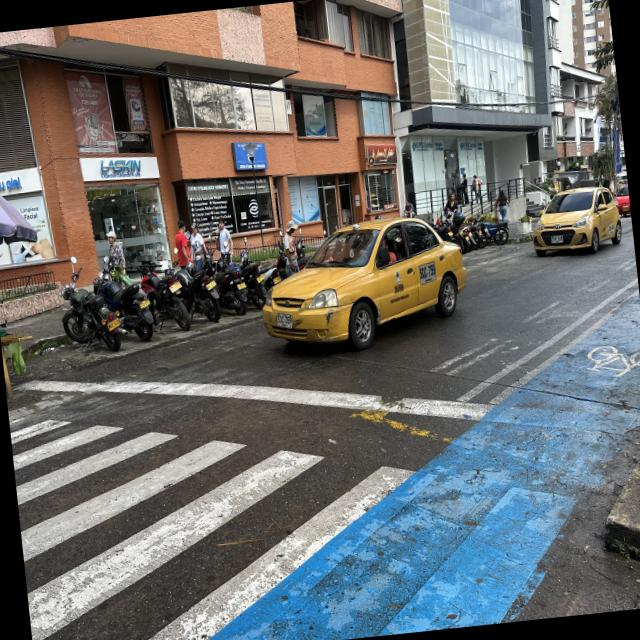number plate: (276, 312, 292, 328), (107, 317, 120, 331), (138, 297, 151, 309), (169, 281, 182, 292), (205, 280, 216, 290), (550, 235, 563, 243), (256, 273, 265, 283), (272, 275, 281, 284), (236, 282, 246, 289)
